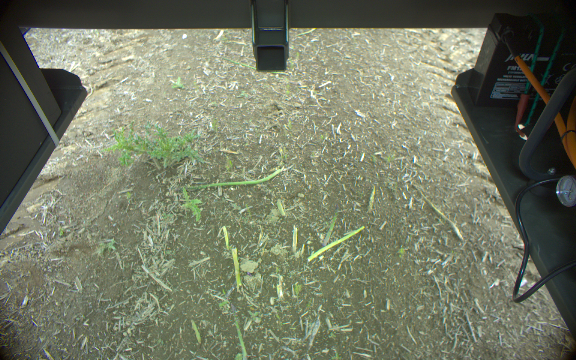aspa: (307, 224, 368, 262), (181, 168, 282, 189), (228, 305, 250, 360), (322, 204, 341, 245), (230, 247, 241, 289), (275, 199, 286, 219)
